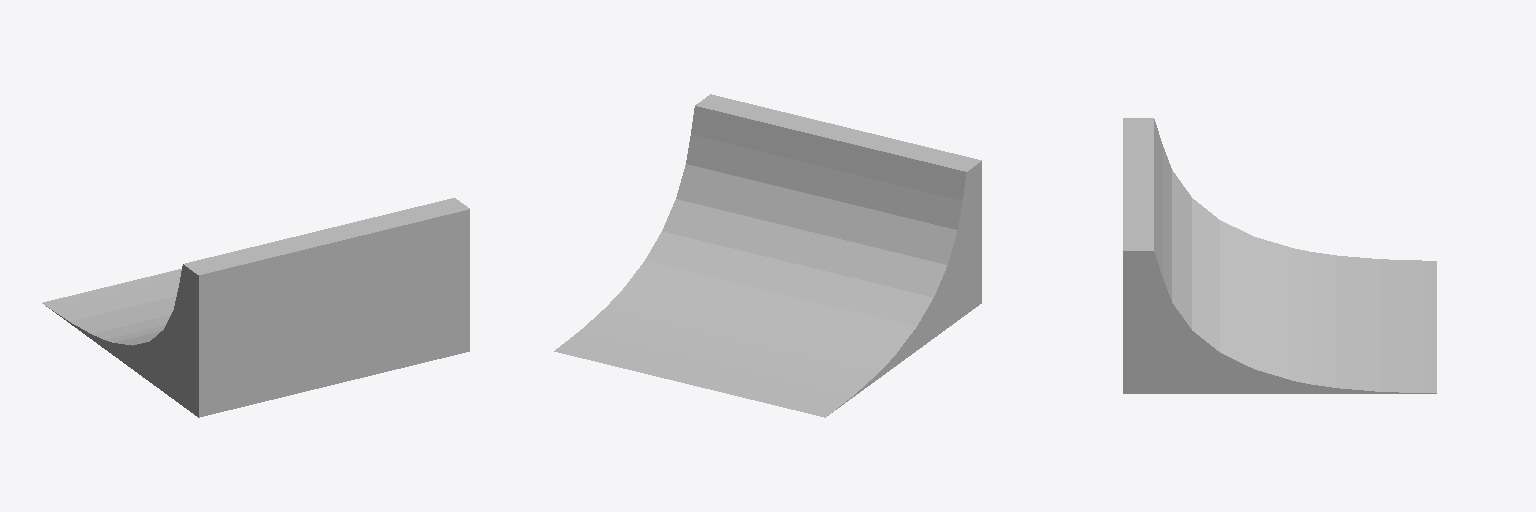
File: Quater_SML_Straight.obj
3 renders of one model, left to right at view 1: azimuth 30°, elevation 25°; view 2: azimuth 150°, elevation 25°; view 3: azimuth 270°, elevation 25°, orthographic.
Parts seen in each view (by area): view 1: Quater_SML_Straight; view 2: Quater_SML_Straight; view 3: Quater_SML_Straight.
Part boxes in pixels (x1,y1,x2,y2): Quater_SML_Straight: (42, 198, 469, 417); Quater_SML_Straight: (554, 94, 981, 417); Quater_SML_Straight: (1123, 118, 1436, 393).
Bounding box in the file's own units: 10 × 5 × 10.